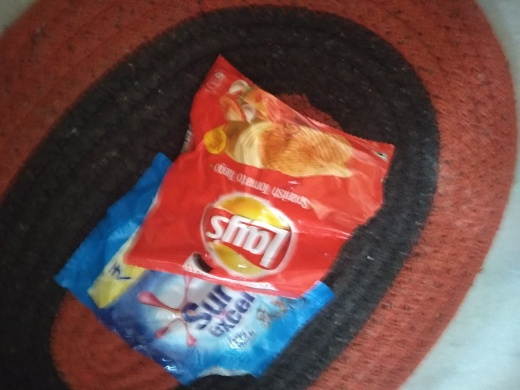lays: (154, 55, 398, 299)
surf: (58, 151, 338, 390)
